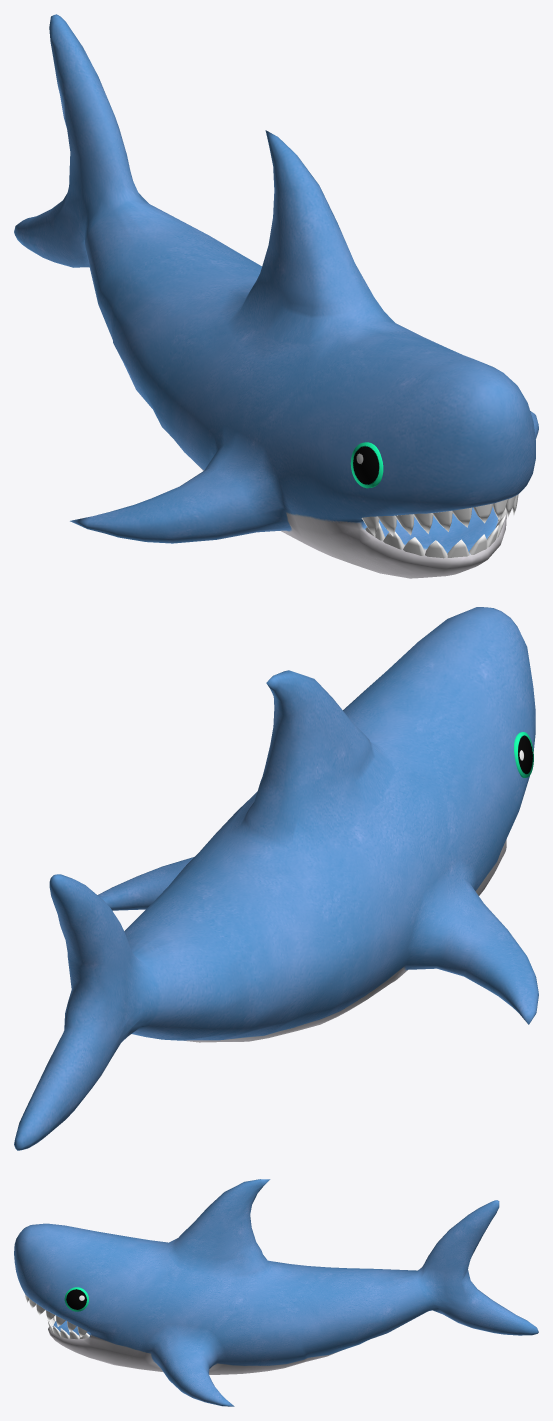
Rendered from sharkplush2test.fbx.
The picture shows the model from 3 angles, top to bottom: view 1: azimuth 30°, elevation 25°; view 2: azimuth 150°, elevation 25°; view 3: azimuth 270°, elevation 25°; orthographic projection. The views are drawn at different scales.
Visible parts, largest first — view 1: Sharkplush; view 2: Sharkplush; view 3: Sharkplush.
Boxes of the visible parts, x1,y1,x2,y2 form: Sharkplush: [14, 14, 538, 578]; Sharkplush: [14, 607, 538, 1150]; Sharkplush: [14, 1179, 538, 1406].
Bounding box in the file's own units: 497 × 365 × 915.
